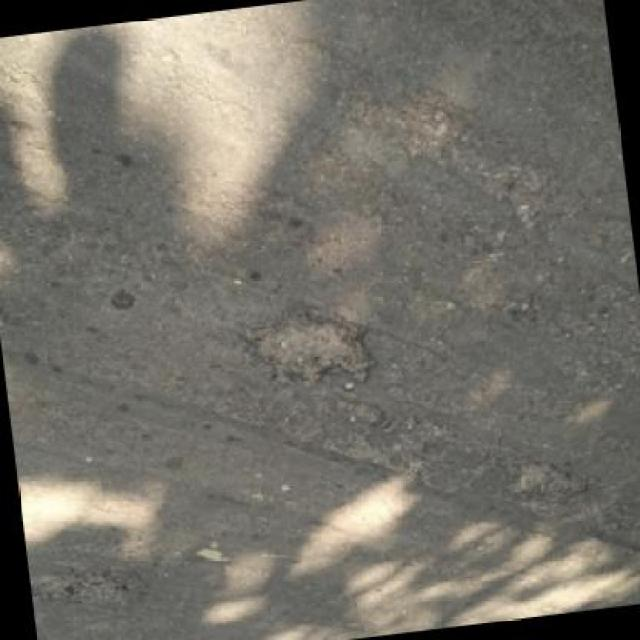pothole1: (241, 301, 381, 399), (28, 558, 152, 619)
